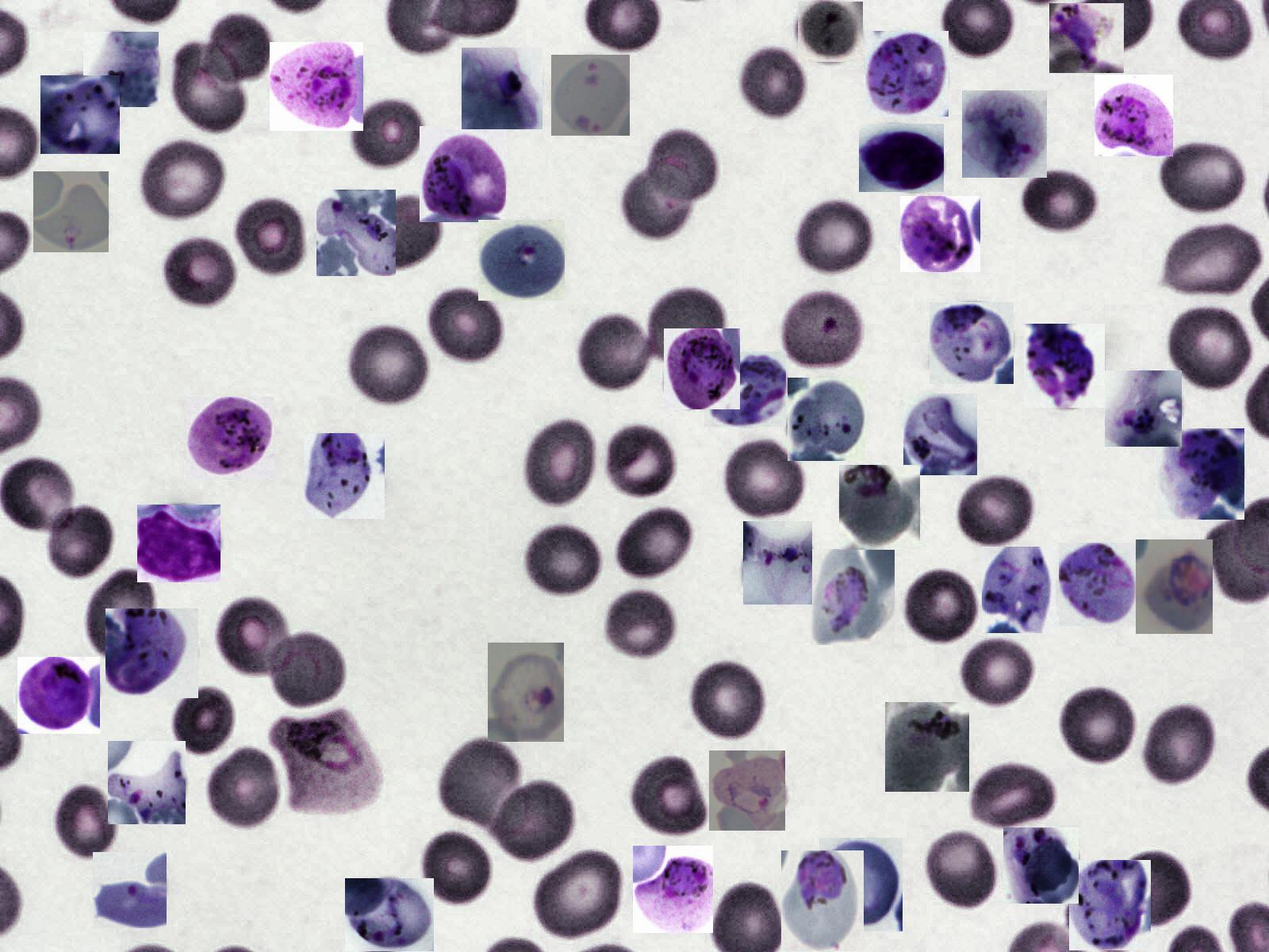Infected: (273, 704, 383, 820), (781, 850, 864, 951), (105, 608, 198, 698), (270, 42, 363, 131), (420, 127, 506, 222), (811, 549, 895, 645), (1157, 428, 1244, 520), (819, 838, 903, 931), (777, 284, 866, 370), (885, 702, 969, 792), (488, 643, 564, 742), (962, 90, 1047, 178), (1069, 860, 1151, 950), (1136, 539, 1213, 634), (865, 31, 949, 117), (186, 397, 274, 478), (478, 220, 565, 301), (304, 433, 385, 519), (633, 846, 713, 933), (930, 302, 1014, 384), (839, 466, 920, 551), (316, 190, 396, 276), (1024, 324, 1105, 408), (345, 878, 434, 951), (462, 48, 542, 129), (108, 741, 186, 824), (1059, 543, 1137, 626), (982, 547, 1056, 634), (551, 55, 630, 136), (788, 378, 865, 461), (17, 657, 100, 734), (1095, 75, 1173, 156), (138, 505, 220, 582), (41, 75, 120, 154), (704, 351, 786, 427), (709, 750, 785, 831), (33, 171, 109, 252), (664, 328, 740, 409), (900, 196, 980, 272), (903, 393, 977, 475), (1105, 370, 1182, 447), (1003, 827, 1079, 904), (743, 521, 812, 605), (859, 124, 944, 192), (83, 32, 159, 107), (93, 852, 167, 928), (1049, 4, 1124, 73), (798, 2, 863, 62)
Uninfected: (438, 733, 527, 836), (532, 845, 625, 943), (480, 776, 577, 865), (1160, 221, 1266, 302), (169, 31, 249, 137), (79, 564, 158, 666), (1165, 302, 1253, 393), (1098, 850, 1190, 934), (140, 136, 226, 223), (359, 190, 449, 273), (207, 594, 296, 677), (522, 416, 601, 508), (347, 323, 430, 409), (723, 438, 806, 523), (641, 292, 728, 373), (1158, 140, 1248, 218), (627, 754, 709, 839), (792, 195, 873, 278), (688, 658, 767, 743), (263, 630, 346, 709), (234, 194, 309, 281), (0, 455, 79, 537), (577, 312, 656, 393), (968, 633, 1045, 716), (1141, 703, 1217, 787), (424, 285, 502, 366), (611, 505, 692, 583), (1021, 163, 1106, 237), (968, 762, 1056, 833), (1059, 685, 1136, 766), (957, 474, 1038, 551), (201, 746, 278, 826), (603, 424, 680, 504), (155, 236, 235, 313), (903, 567, 979, 647), (923, 829, 998, 910), (620, 159, 695, 240), (418, 828, 493, 908), (351, 98, 432, 171), (524, 524, 602, 599), (43, 501, 115, 580), (602, 589, 678, 663), (196, 13, 271, 87), (165, 682, 235, 760), (52, 783, 120, 863), (738, 44, 808, 121), (649, 130, 719, 205)
